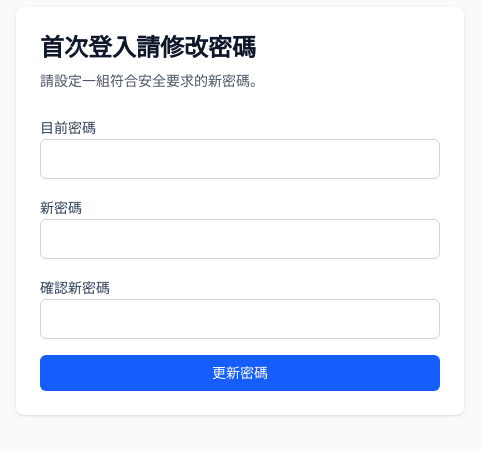
Test: ChangePasswordPage › shows specific error when new password matches current password
The width and height of the screenshot is (481, 451).
In the password field labelled "目前密碼": (240, 159) [40, 139, 440, 179], type "TempPass123!"
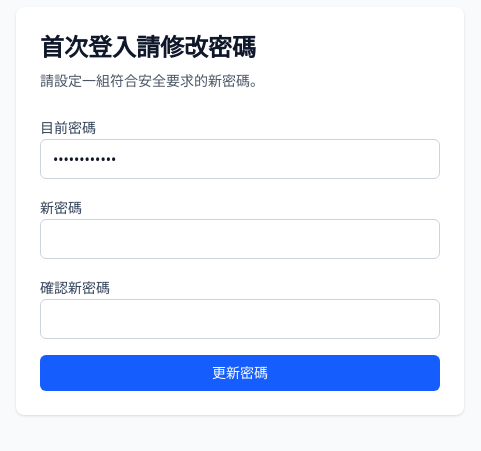
In the password field labelled "新密碼": (240, 239) [40, 219, 440, 259], type "TempPass123!"
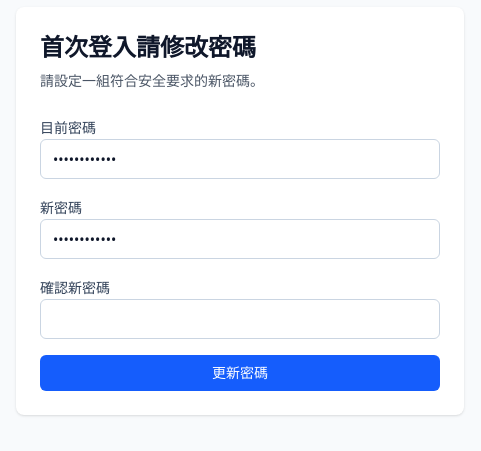
In the password field labelled "確認新密碼": (240, 319) [40, 299, 440, 339], type "TempPass123!"
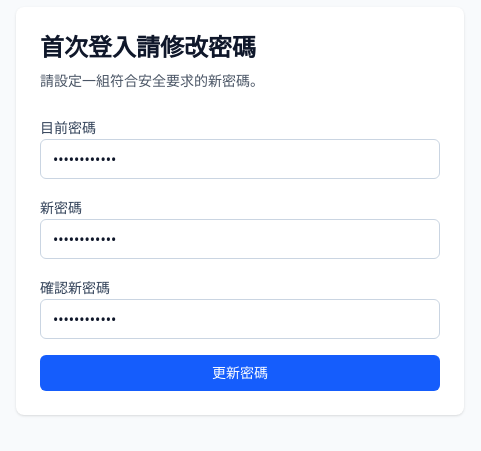
Click the button "更新密碼": (240, 373) [40, 355, 440, 391]
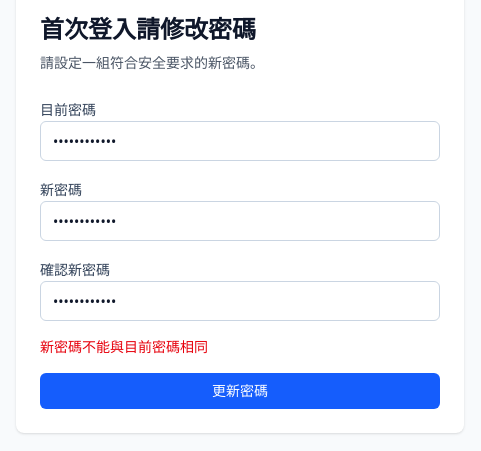
Check: the text "新密碼不能與目前密碼相同" is shown, box [40, 337, 208, 356]
